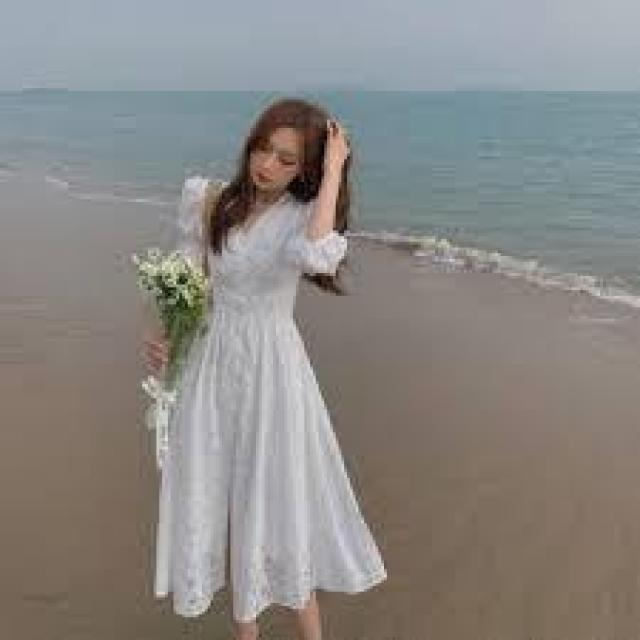dress: (150, 162, 392, 623)
